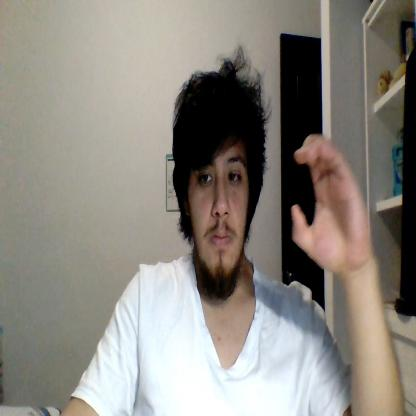C: (292, 135, 370, 272)
